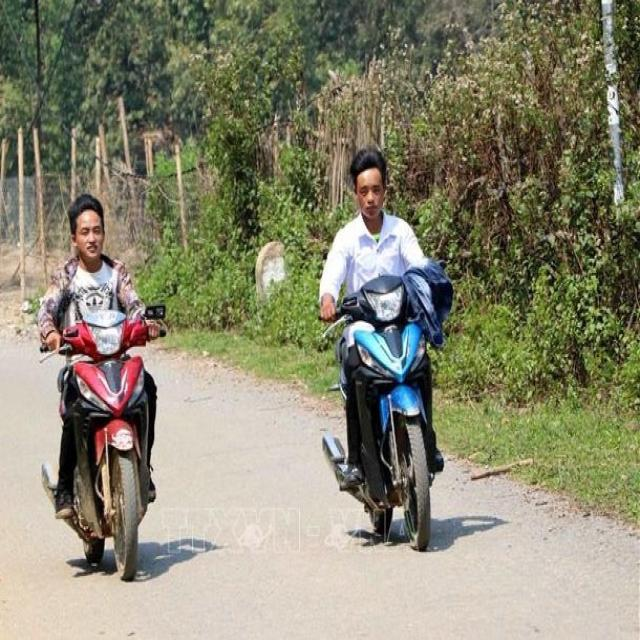no_helmet: (342, 136, 392, 228), (59, 185, 112, 271)
